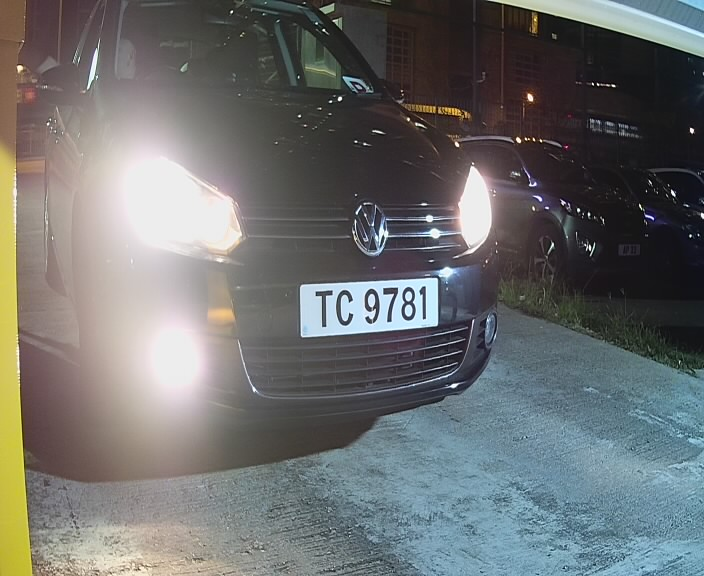Car: (17, 2, 518, 453)
License Plate: (293, 272, 452, 343)
